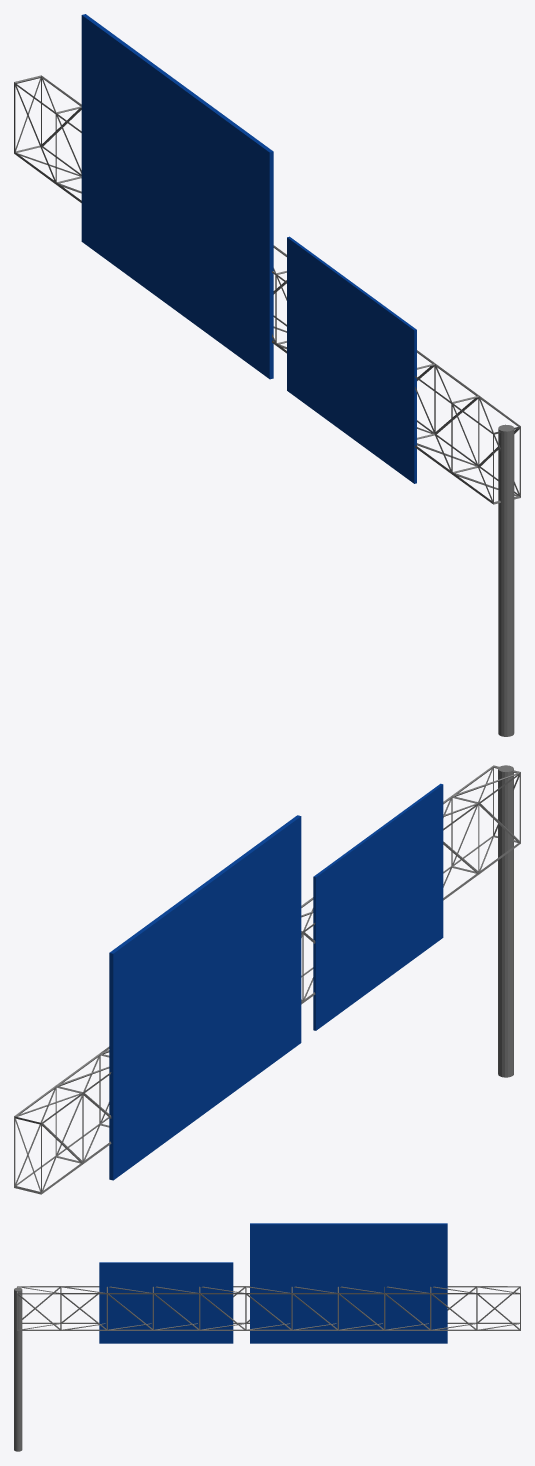
The model's file is road_asset.fbx.
3 views of the same model, one above another, from view 1: azimuth 30°, elevation 25°; view 2: azimuth 150°, elevation 25°; view 3: azimuth 270°, elevation 25° (orthographic). The views are drawn at different scales.
Visible parts, largest first — view 1: truss_frame_sign, truss_frame; view 2: truss_frame_sign, truss_frame; view 3: truss_frame_sign, truss_frame.
Part boxes in pixels (box(x1,y1,x2,y2)): truss_frame_sign: box(81, 14, 416, 483); truss_frame: box(14, 75, 520, 736); truss_frame_sign: box(109, 783, 443, 1180); truss_frame: box(14, 765, 520, 1194); truss_frame_sign: box(99, 1223, 447, 1343); truss_frame: box(14, 1286, 520, 1451).
Size of the model in its own units: 88.39 by 1209 by 2498.
